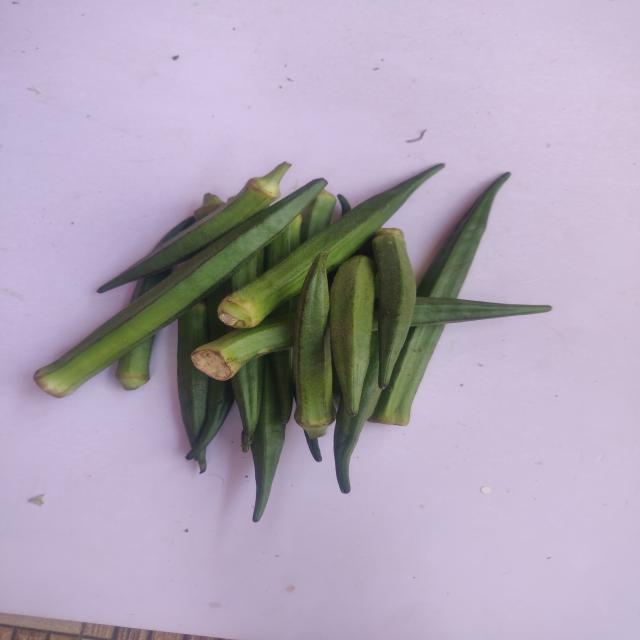Ladies Finger: (33, 178, 326, 398), (217, 163, 444, 328), (96, 162, 290, 293), (293, 252, 334, 440), (329, 255, 374, 416), (372, 228, 416, 389)
